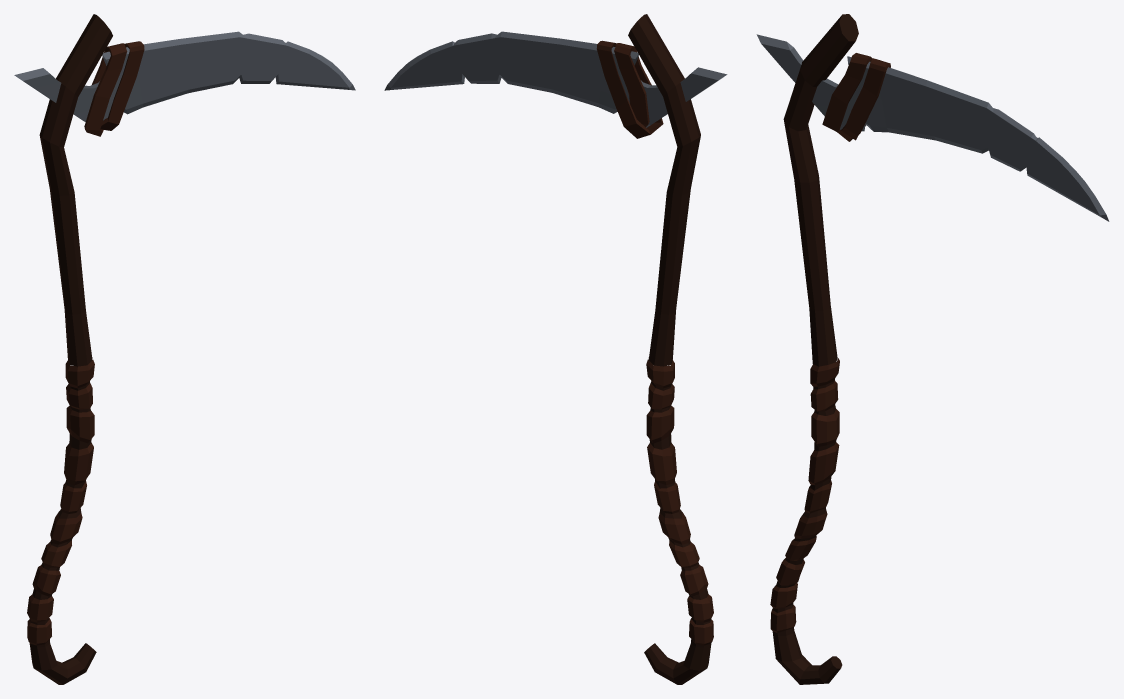
Rendered from Scythe.glb.
3 renders of one model, left to right at view 1: azimuth 30°, elevation 25°; view 2: azimuth 150°, elevation 25°; view 3: azimuth 330°, elevation 25°, orthographic. The views are drawn at different scales.
Parts seen in each view (by area): view 1: Scythe; view 2: Scythe; view 3: Scythe.
Boxes of the visible parts, x1,y1,x2,y2 form: Scythe: (14, 14, 355, 684); Scythe: (384, 14, 727, 684); Scythe: (756, 14, 1109, 684).
Bounding box in the file's own units: 0.4846 × 0.8931 × 0.0444.
